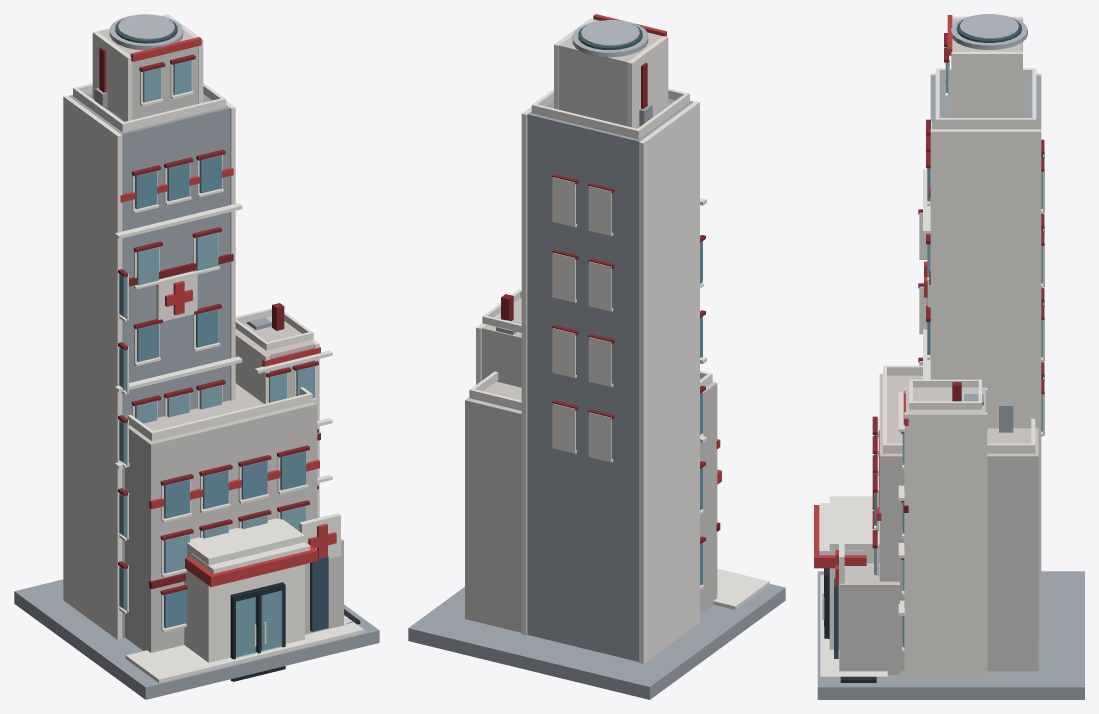
The model's file is hospital-building.glb.
3 renders of one model, left to right at view 1: azimuth 30°, elevation 25°; view 2: azimuth 150°, elevation 25°; view 3: azimuth 270°, elevation 25°, orthographic. The views are drawn at different scales.
Visible parts, largest first — view 1: hospital_building_form_fit, hospital_building, hospital_cross_symbol (×2), hospital_glass_front_door_backplate, hospital_glass_front_door, hospital_front_entry_window, hospital_glass_front_door_panel_right, hospital_glass_front_door_panel_left; view 2: hospital_building_form_fit, hospital_building; view 3: hospital_building_form_fit, hospital_building, hospital_cross_symbol.
Part boxes in pixels (<box>): hospital_building_form_fit: <box>63,14,343,662</box>; hospital_building: <box>14,579,379,699</box>; hospital_cross_symbol (×2): <box>156,271,340,564</box>; hospital_glass_front_door_backplate: <box>230,582,283,681</box>; hospital_glass_front_door: <box>231,583,285,681</box>; hospital_front_entry_window: <box>310,556,328,631</box>; hospital_glass_front_door_panel_right: <box>261,590,282,651</box>; hospital_glass_front_door_panel_left: <box>236,597,255,658</box>; hospital_building_form_fit: <box>465,14,721,663</box>; hospital_building: <box>408,568,785,699</box>; hospital_building_form_fit: <box>814,14,1044,677</box>; hospital_building: <box>817,571,1084,699</box>; hospital_cross_symbol: <box>835,537,844,597</box>.
Bounding box in the file's own units: 11.4 × 27.84 × 11.26.
